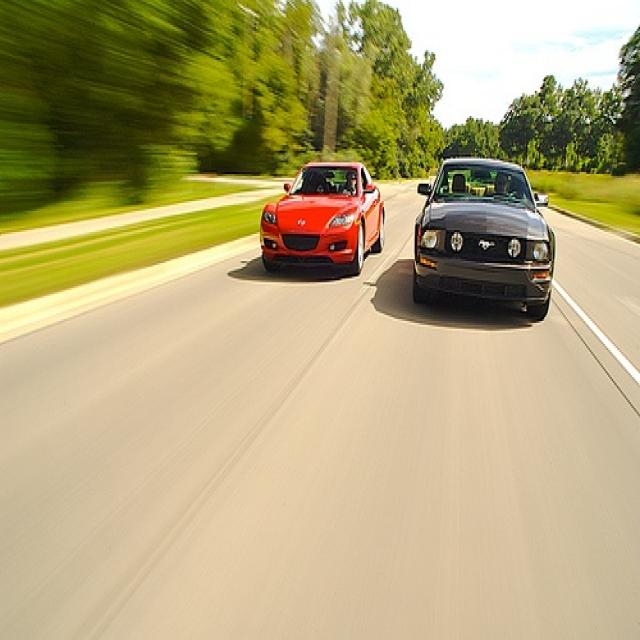car: (411, 151, 557, 321), (256, 154, 384, 274)
